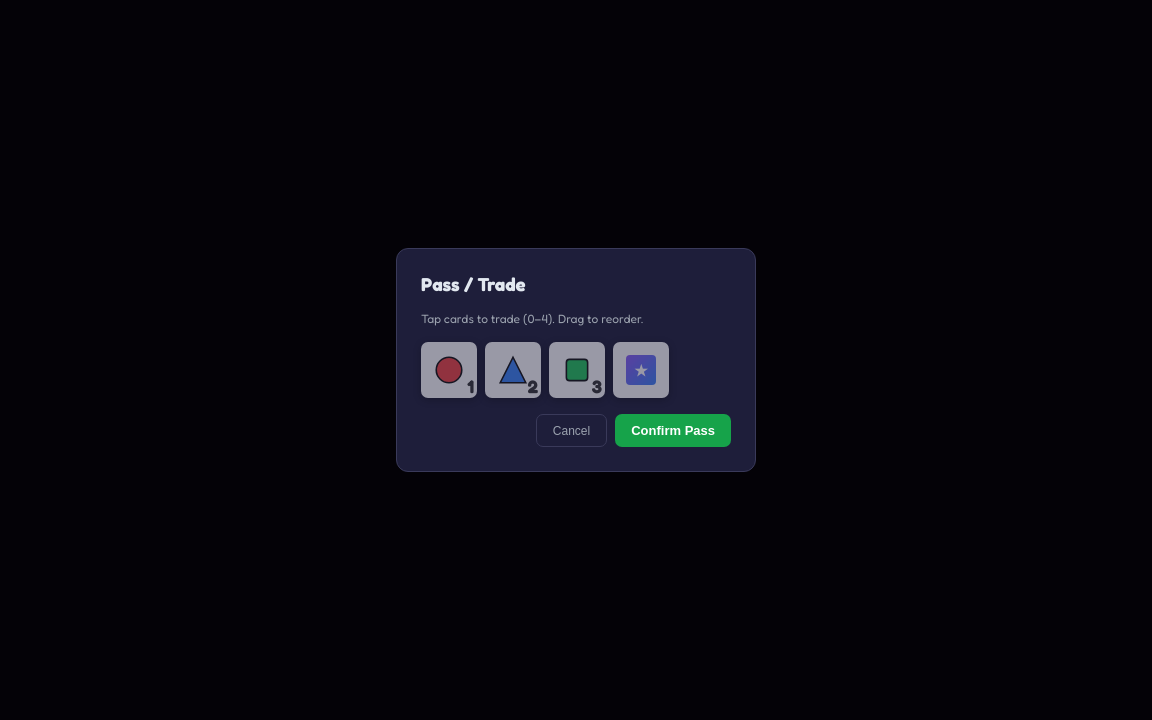
clicking a card selects it (shows in trade order row)
The image size is (1152, 720).
Click the text "1" at (449, 370), box x1=421 y1=342 x2=477 y2=398
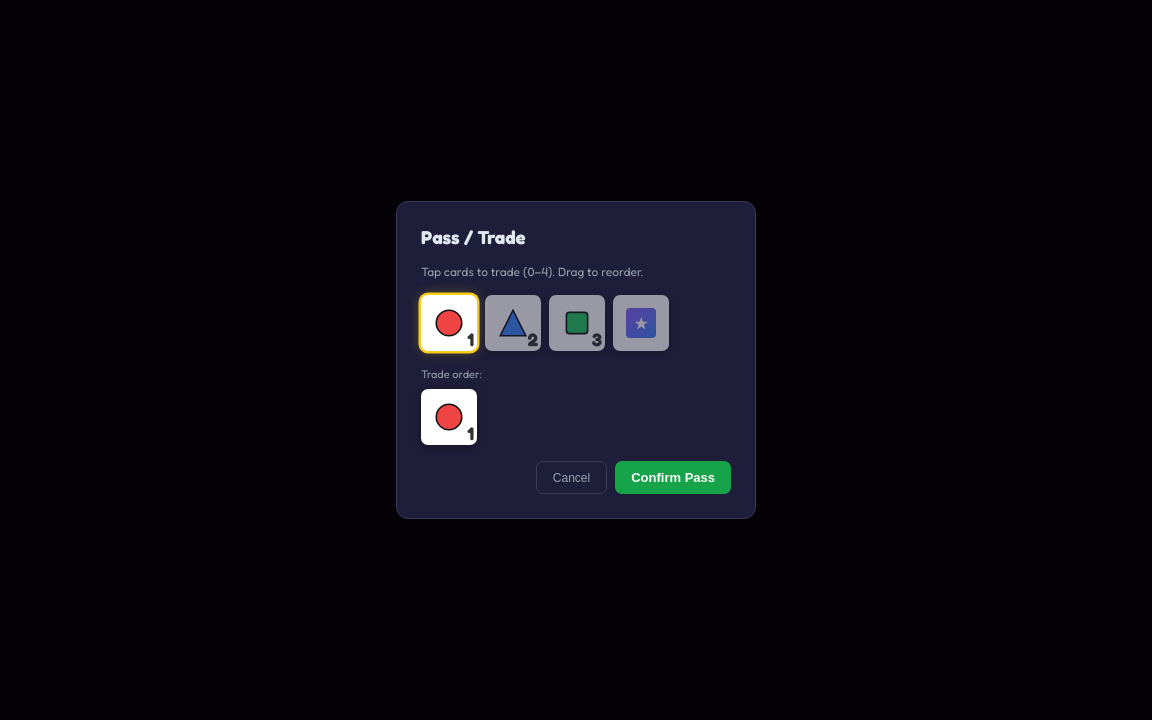
Expected: the element with test id "trade-order-row" is shown, x1=421 y1=389 x2=477 y2=445
